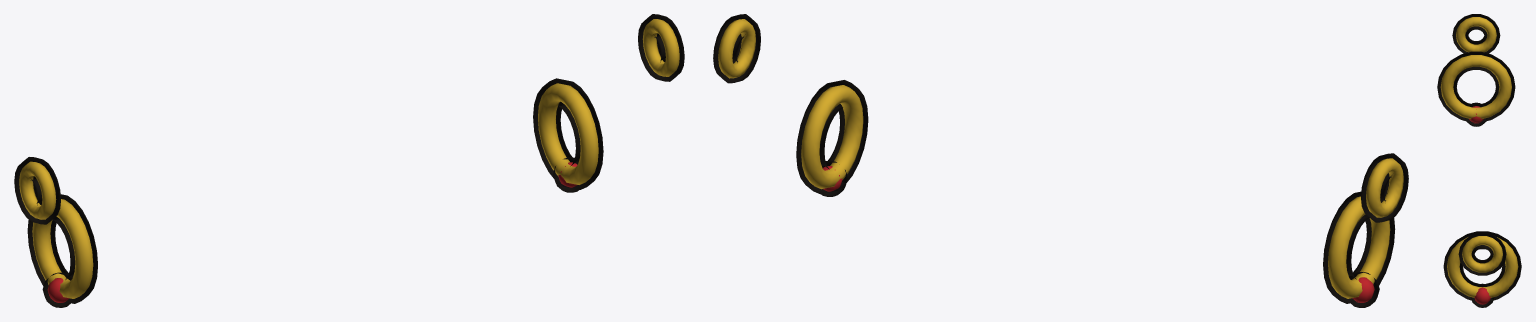
The model's file is earring_double_male_hi.glb.
3 views of the same model, side by side, from view 1: azimuth 30°, elevation 25°; view 2: azimuth 150°, elevation 25°; view 3: azimuth 270°, elevation 25° (orthographic). The views are drawn at different scales.
Parts seen in each view (by area): view 1: earring_double_male_hi; view 2: earring_double_male_hi; view 3: earring_double_male_hi.
Part boxes in pixels (x1,y1,x2,y2): earring_double_male_hi: (14, 14, 684, 307); earring_double_male_hi: (713, 14, 1408, 307); earring_double_male_hi: (1437, 14, 1521, 307).
Bounding box in the file's own units: 0.5234 × 0.1283 × 0.0864.
